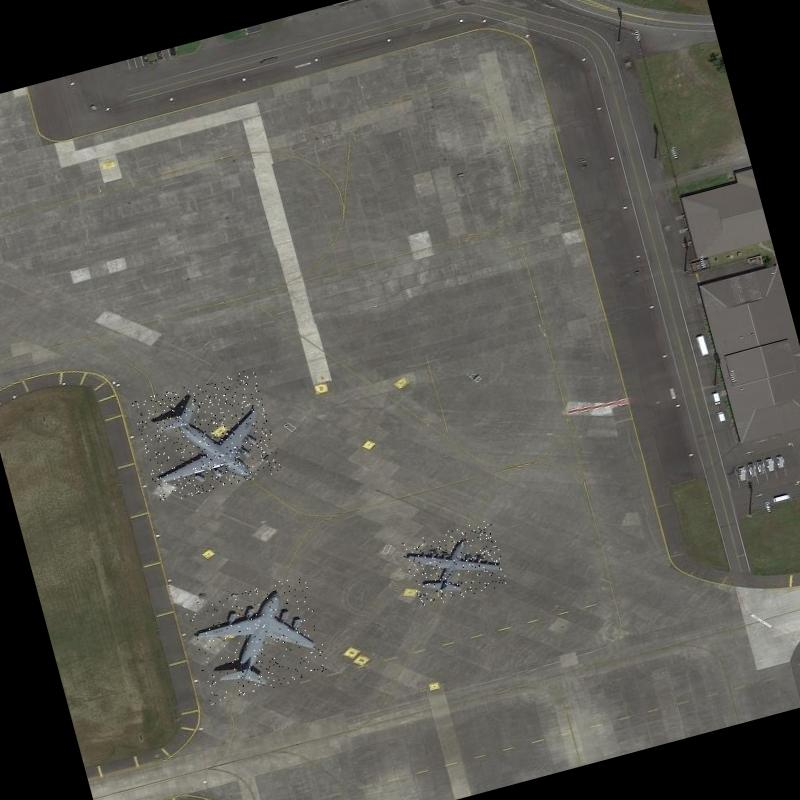A2: (400, 518, 508, 608)
A3: (131, 368, 281, 504), (184, 574, 330, 704)
